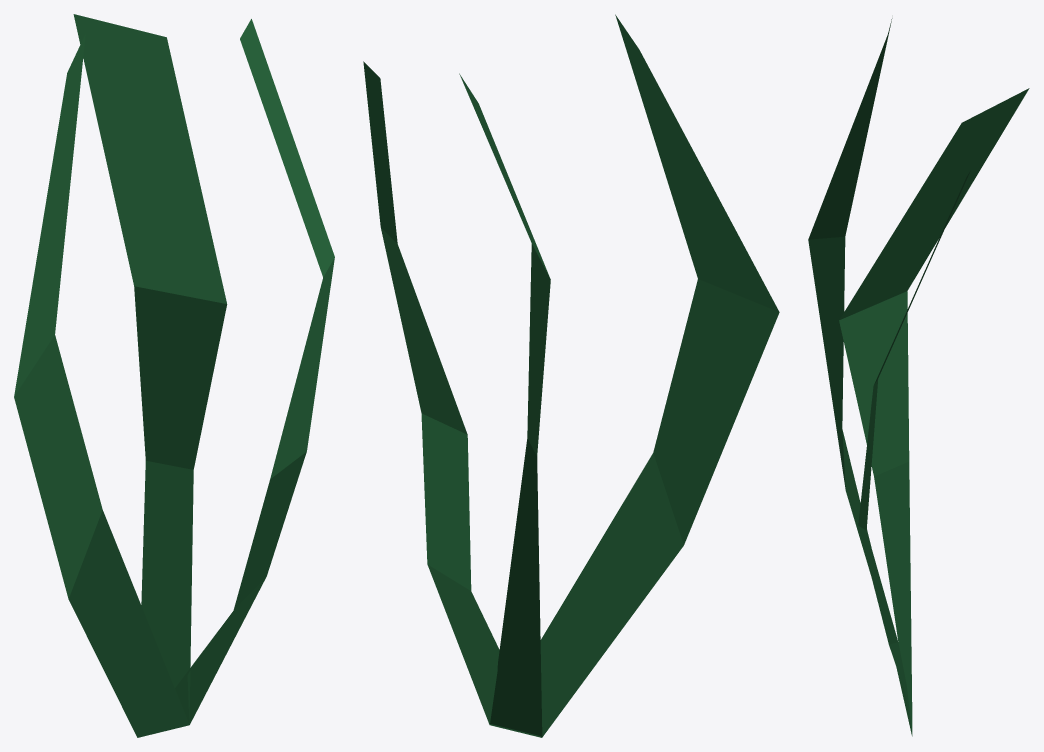
File: kelp.fbx
3 views of the same model, side by side, from view 1: azimuth 30°, elevation 25°; view 2: azimuth 150°, elevation 25°; view 3: azimuth 270°, elevation 25° (orthographic). The views are drawn at different scales.
Parts seen in each view (by area): view 1: Cube; view 2: Cube; view 3: Cube.
Part boxes in pixels (bbox=[...]): Cube: bbox=[14, 14, 334, 737]; Cube: bbox=[363, 14, 779, 737]; Cube: bbox=[808, 18, 1029, 736].
Size of the model in its own units: 1376 by 2665 by 796.
